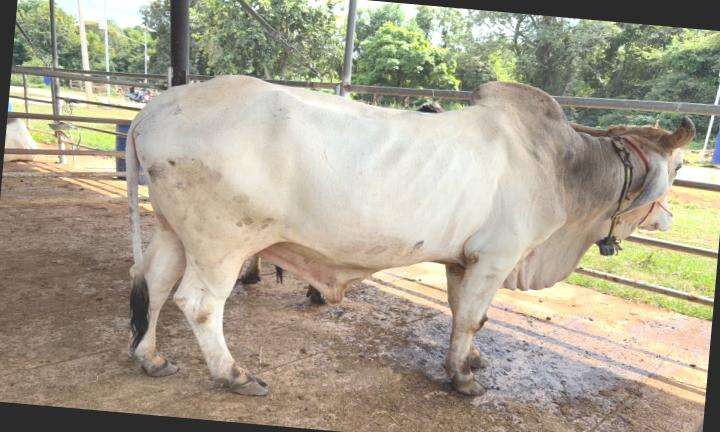Brahman: (126, 75, 695, 395)
